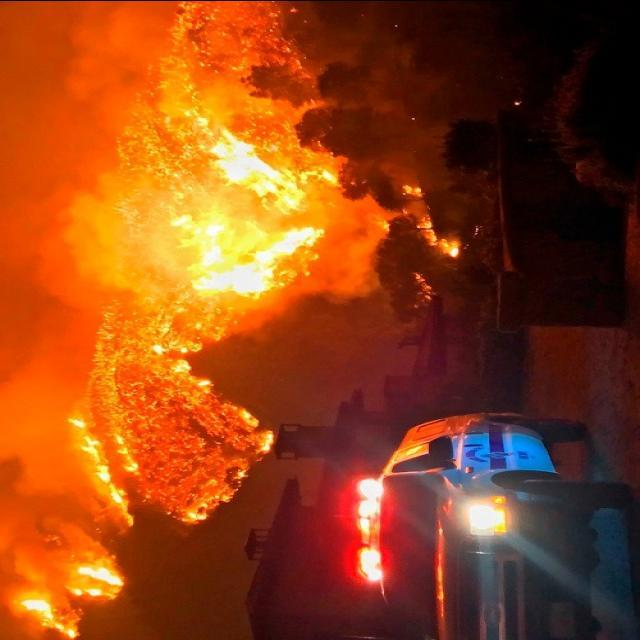Fire: (70, 1, 332, 508), (18, 520, 128, 634)
